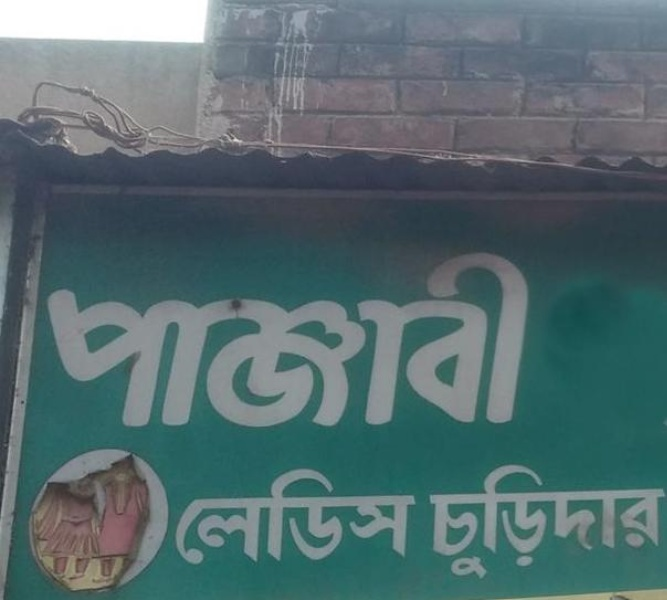text: (49, 247, 64, 437), (65, 247, 80, 437), (81, 247, 96, 437), (97, 247, 112, 437), (113, 247, 128, 437), (129, 247, 144, 437), (145, 247, 160, 437), (161, 247, 176, 437), (177, 247, 192, 437), (193, 247, 208, 437), (209, 247, 224, 437), (225, 247, 240, 437), (241, 247, 256, 437), (257, 247, 272, 437), (273, 247, 288, 437), (289, 247, 304, 437), (305, 247, 320, 437), (321, 247, 336, 437), (337, 247, 352, 437), (353, 247, 368, 437), (369, 247, 384, 437), (385, 247, 400, 437), (401, 247, 416, 437), (417, 247, 432, 437), (433, 247, 448, 437), (449, 247, 464, 437), (465, 247, 480, 437), (481, 247, 496, 437), (497, 247, 512, 437), (513, 247, 528, 437), (433, 456, 448, 585), (449, 456, 464, 585), (465, 456, 480, 585), (481, 456, 496, 585), (497, 456, 512, 585), (513, 456, 528, 585), (529, 456, 544, 585), (545, 456, 560, 585), (561, 456, 576, 585), (577, 456, 592, 585), (593, 456, 608, 585), (609, 456, 624, 585), (625, 456, 640, 585), (641, 456, 656, 585), (529, 247, 539, 437), (177, 466, 192, 572), (193, 466, 208, 572), (209, 466, 224, 572), (225, 466, 240, 572), (241, 466, 256, 572), (257, 466, 272, 572), (273, 466, 288, 572), (289, 466, 304, 572), (305, 466, 320, 572), (321, 466, 336, 572), (337, 466, 352, 572), (353, 466, 368, 572), (369, 466, 384, 572), (385, 466, 400, 572), (401, 466, 416, 572), (657, 456, 667, 585), (423, 456, 432, 585), (42, 247, 48, 437), (171, 466, 176, 572), (417, 466, 420, 572)
